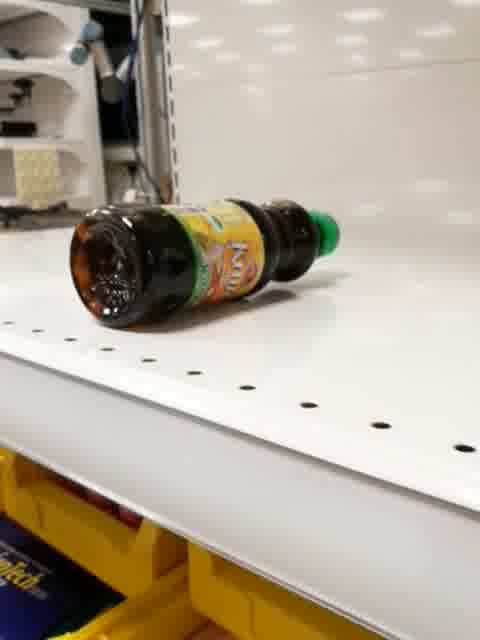cookingoil: (64, 195, 344, 333)
